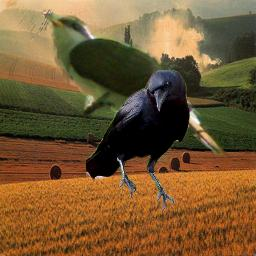Crow: (86, 70, 190, 212)
Cuckoo: (39, 12, 229, 157)
